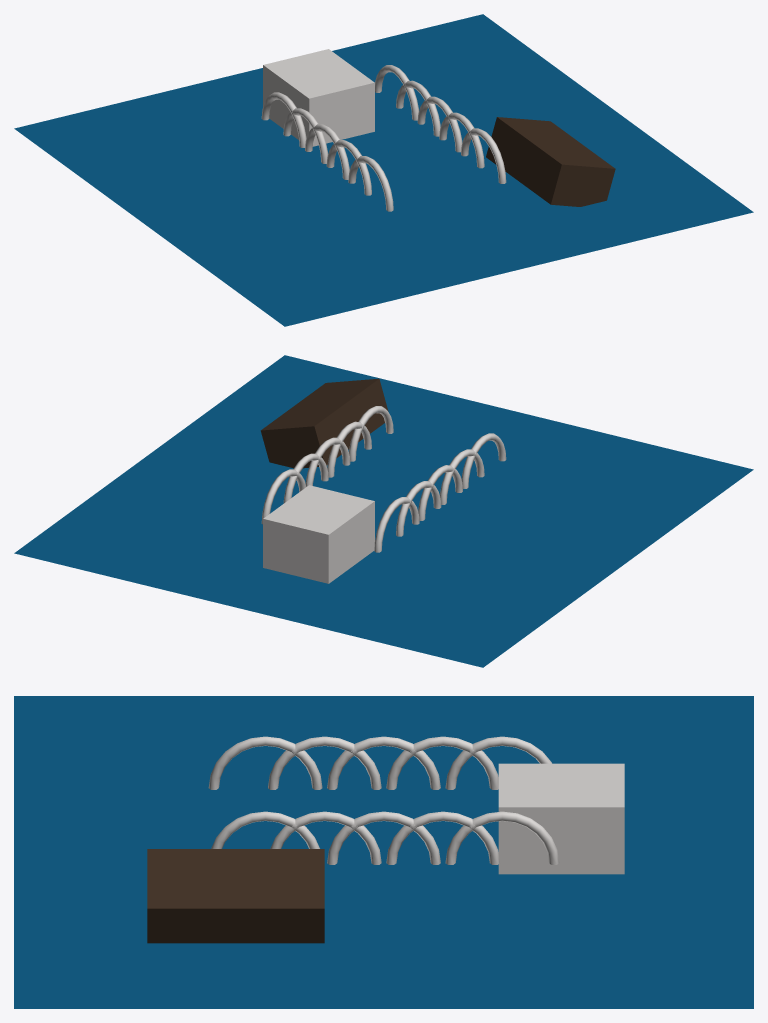
Rendered from atl_05.glb.
The picture shows the model from 3 angles, top to bottom: view 1: azimuth 30°, elevation 25°; view 2: azimuth 150°, elevation 25°; view 3: azimuth 270°, elevation 25°; orthographic projection. The views are drawn at different scales.
Parts seen in each view (by area): view 1: scenario_base_floor, ATL_05, atlans_leviathan_skull, atlans_leviathan_ribs; view 2: scenario_base_floor, atlans_leviathan_skull, atlans_leviathan_ribs, ATL_05; view 3: scenario_base_floor, ATL_05, atlans_leviathan_ribs, atlans_leviathan_skull.
Boxes of the visible parts, <box> form: scenario_base_floor: <box>14,14,753,326</box>; ATL_05: <box>486,117,615,206</box>; atlans_leviathan_skull: <box>263,49,374,146</box>; atlans_leviathan_ribs: <box>261,65,506,211</box>; scenario_base_floor: <box>14,355,753,667</box>; atlans_leviathan_skull: <box>263,485,374,583</box>; atlans_leviathan_ribs: <box>261,406,506,552</box>; ATL_05: <box>260,378,388,468</box>; scenario_base_floor: <box>14,696,753,1008</box>; ATL_05: <box>147,849,324,943</box>; atlans_leviathan_ribs: <box>208,736,559,864</box>; atlans_leviathan_skull: <box>498,763,624,874</box>.
Bounding box in the file's own units: 50 × 6.65 × 50.
